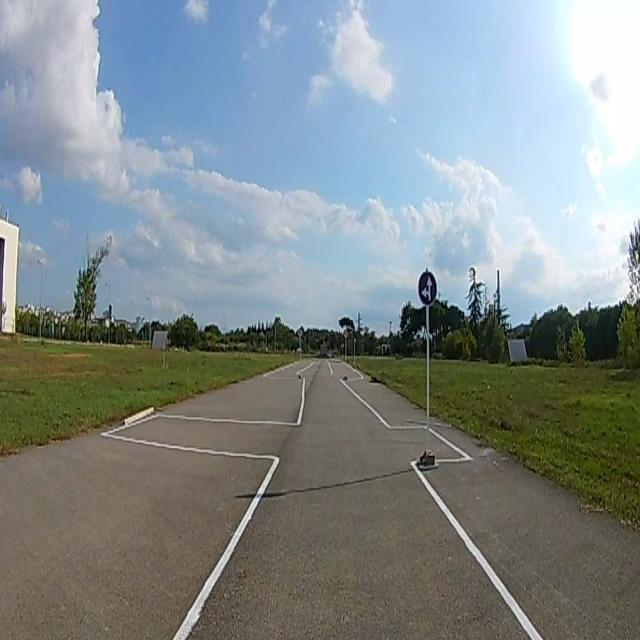ilerisol: (418, 271, 437, 306)
